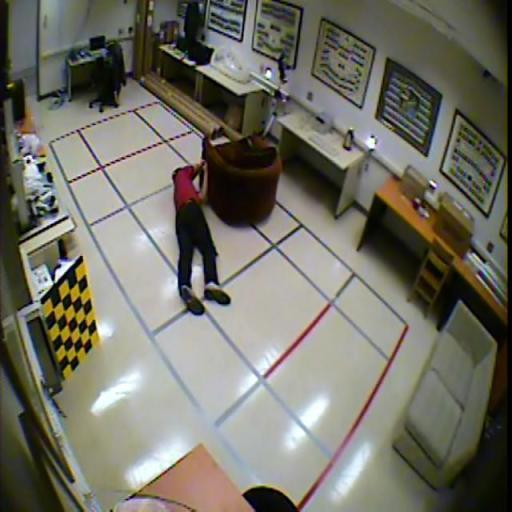Fall: (172, 157, 231, 317)
